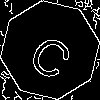C: (25, 25, 82, 83)
